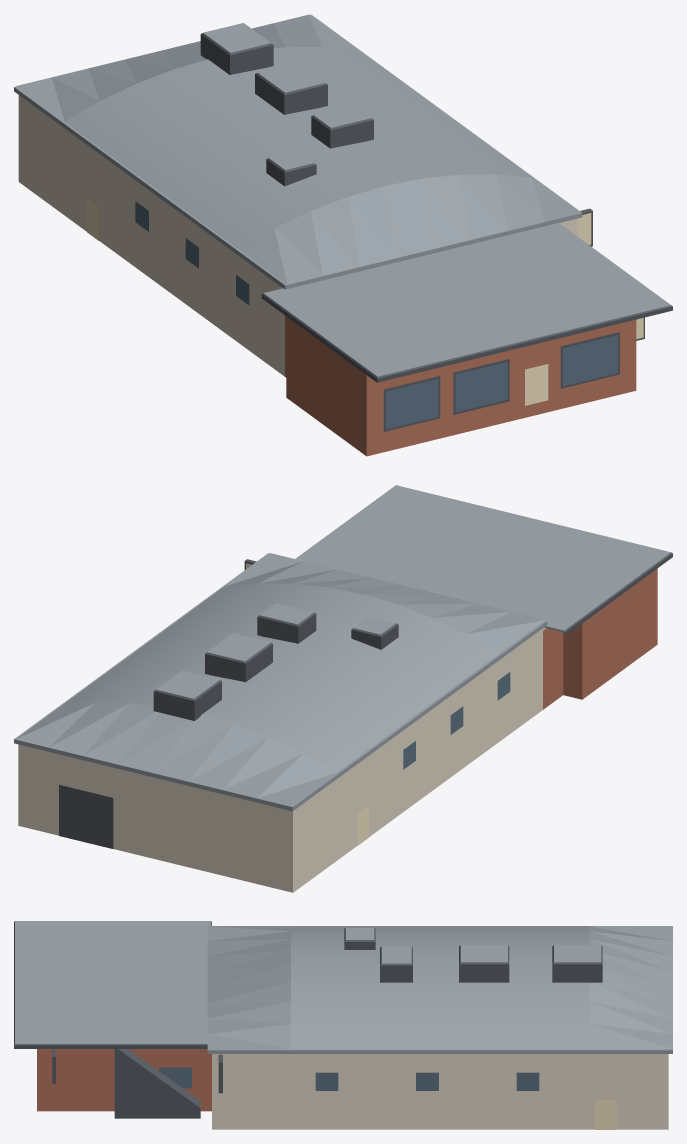
The model's file is amos-southend.glb.
The picture shows the model from 3 angles, top to bottom: view 1: azimuth 30°, elevation 25°; view 2: azimuth 150°, elevation 25°; view 3: azimuth 270°, elevation 25°; orthographic projection. The views are drawn at different scales.
Visible parts, largest first — view 1: Amos' Southend; view 2: Amos' Southend; view 3: Amos' Southend.
Part boxes in pixels (x1,y1,x2,y2): Amos' Southend: [14, 14, 672, 456]; Amos' Southend: [14, 485, 672, 892]; Amos' Southend: [14, 921, 672, 1129].
Bounding box in the file's own units: 23.1 × 9.4 × 45.9.
